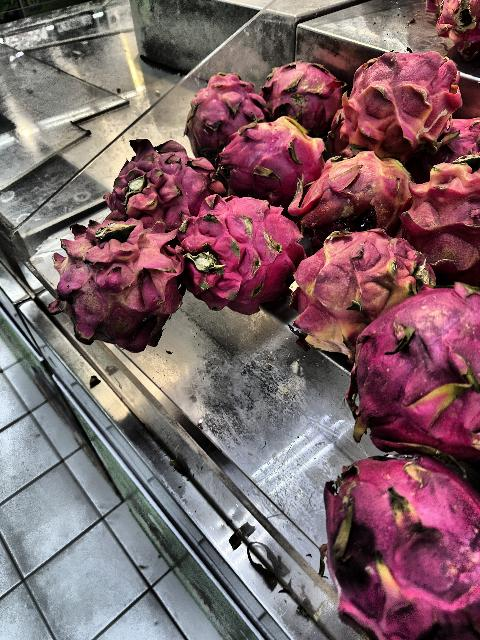buah-naga-belum-matang: (303, 222, 428, 350), (56, 214, 178, 342), (306, 142, 418, 234), (404, 154, 480, 274), (222, 116, 318, 194)
buah-naga-matang: (312, 450, 480, 640), (344, 286, 480, 458), (177, 196, 297, 294), (330, 60, 456, 146), (107, 143, 214, 220), (183, 74, 261, 150), (264, 52, 336, 126)
